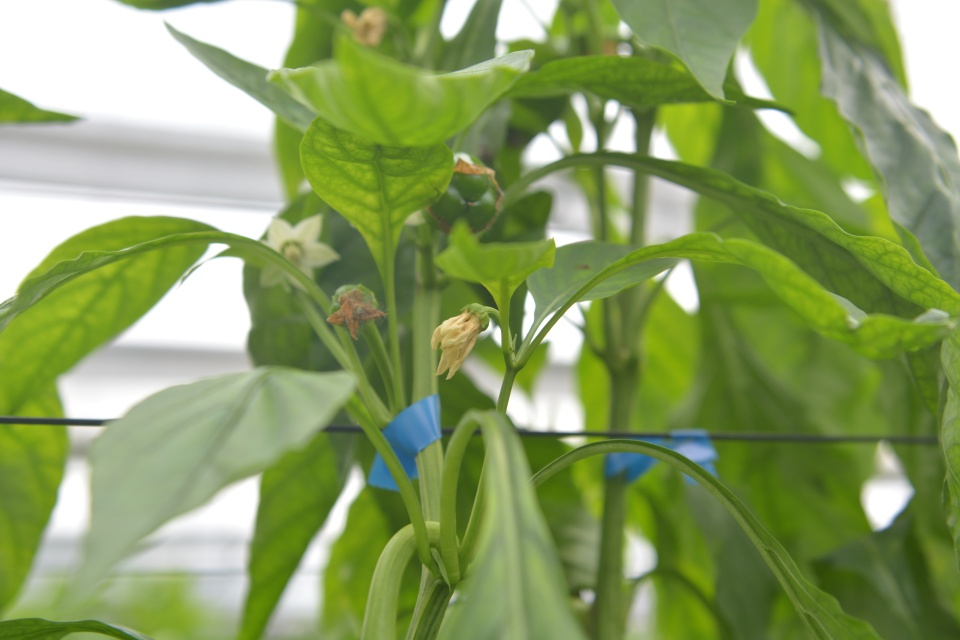flower: (255, 208, 341, 297), (428, 307, 485, 383)
immature: (421, 147, 507, 236)
